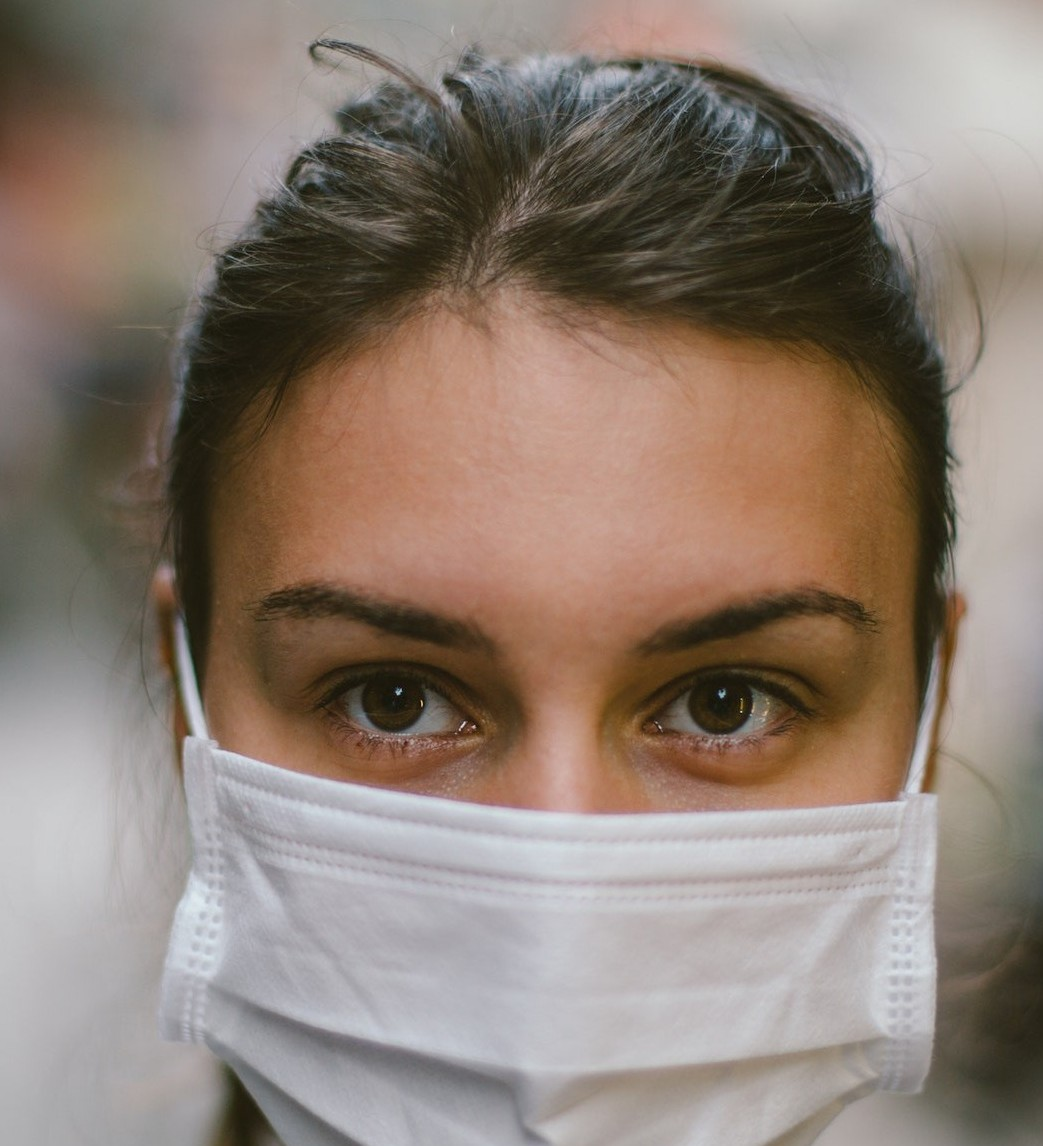with_mask: (162, 291, 973, 1146)
